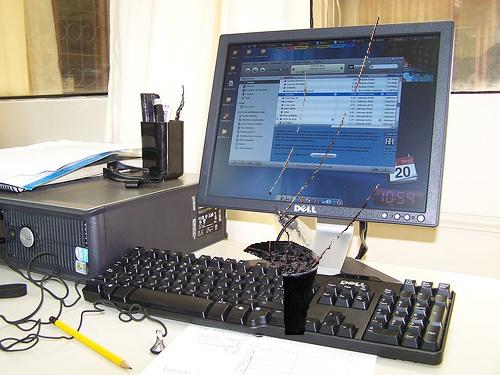tampered: (244, 16, 379, 335)
